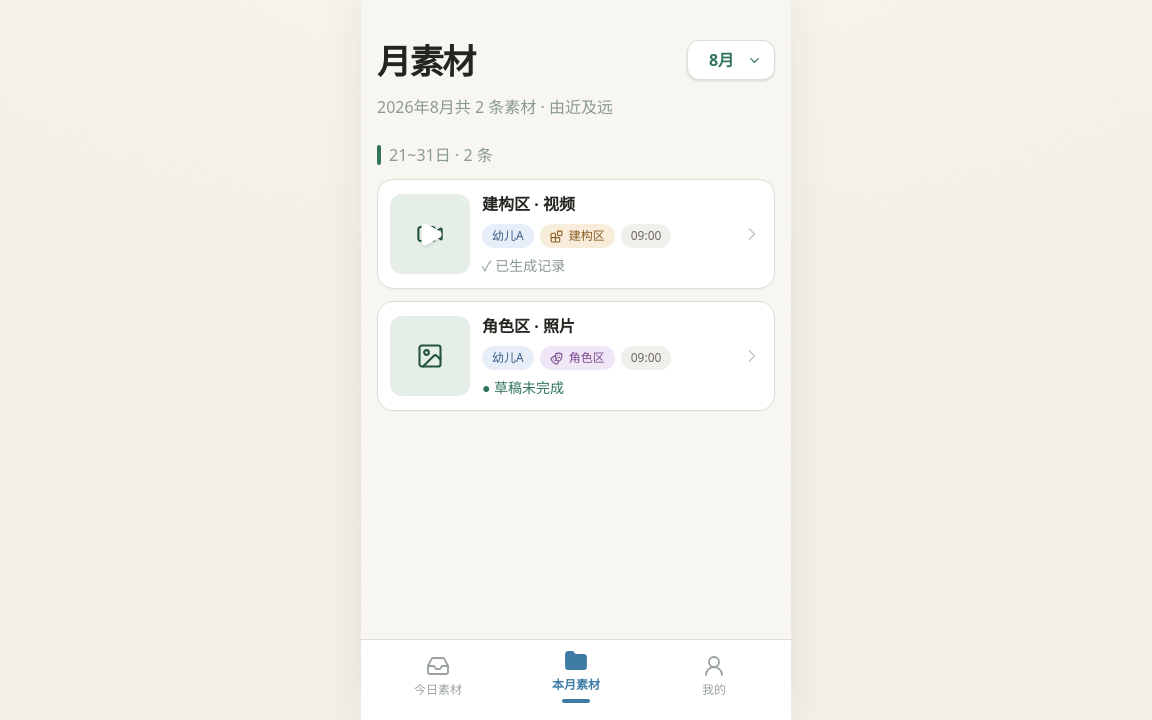
Test: home pages › can switch month via the picker
Click the button named "选择月份" at (731, 60), box x1=687 y1=40 x2=775 y2=80
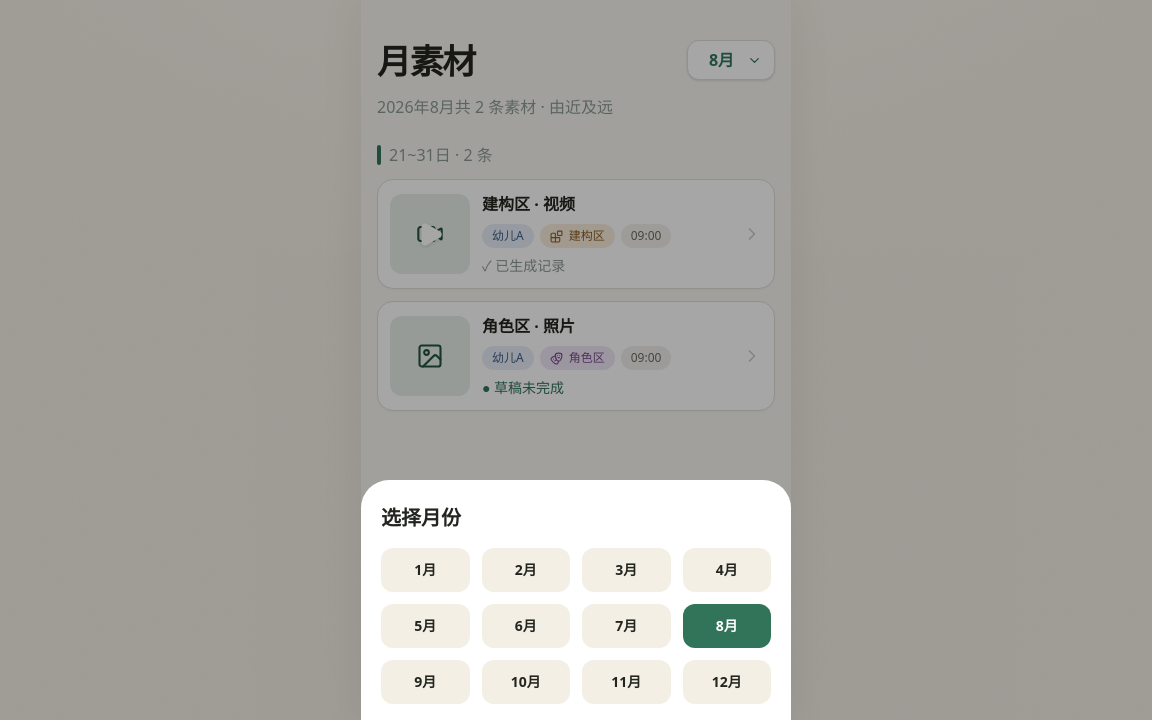
Click the button "9月" at (425, 682), box x1=381 y1=660 x2=470 y2=704
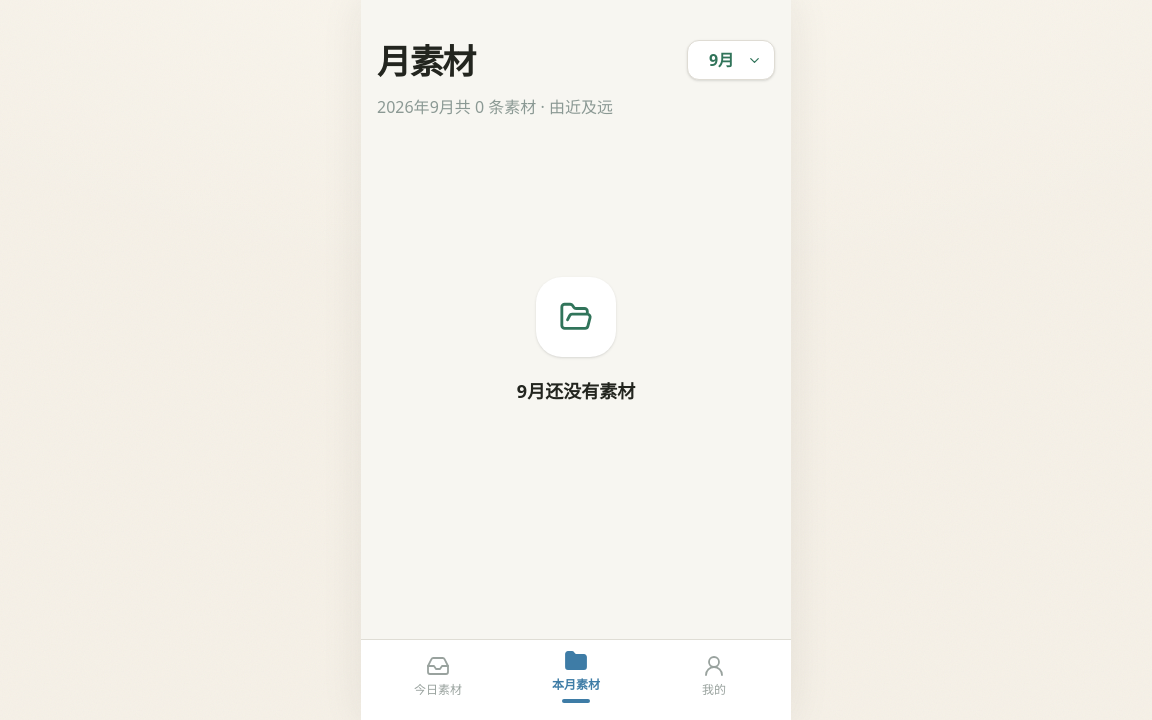
Result: the heading "9月还没有素材" is shown at x1=517 y1=377 x2=635 y2=405
